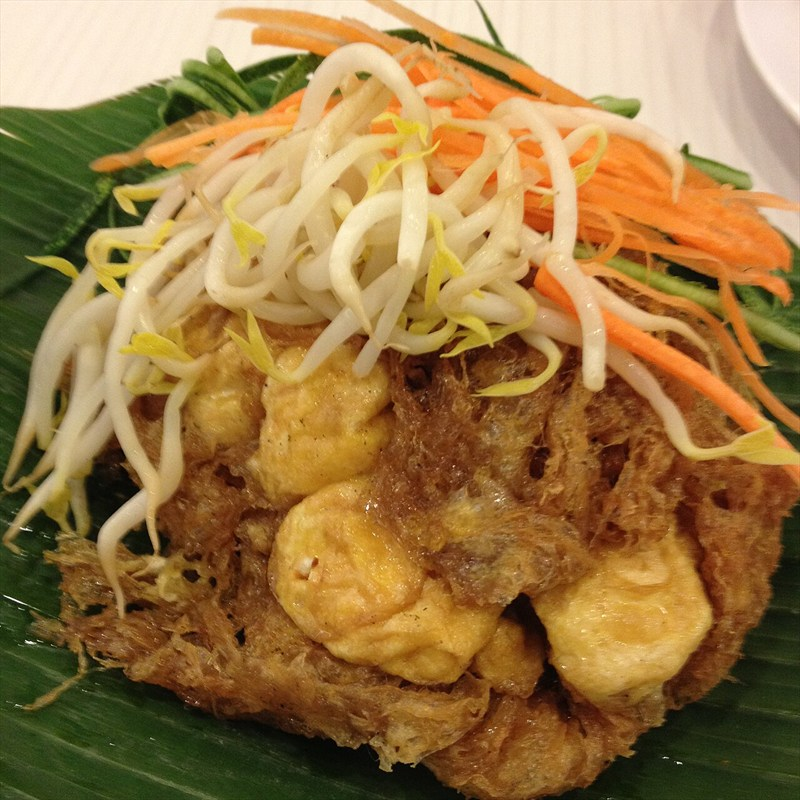Tahu Goreng: (87, 16, 733, 608)
